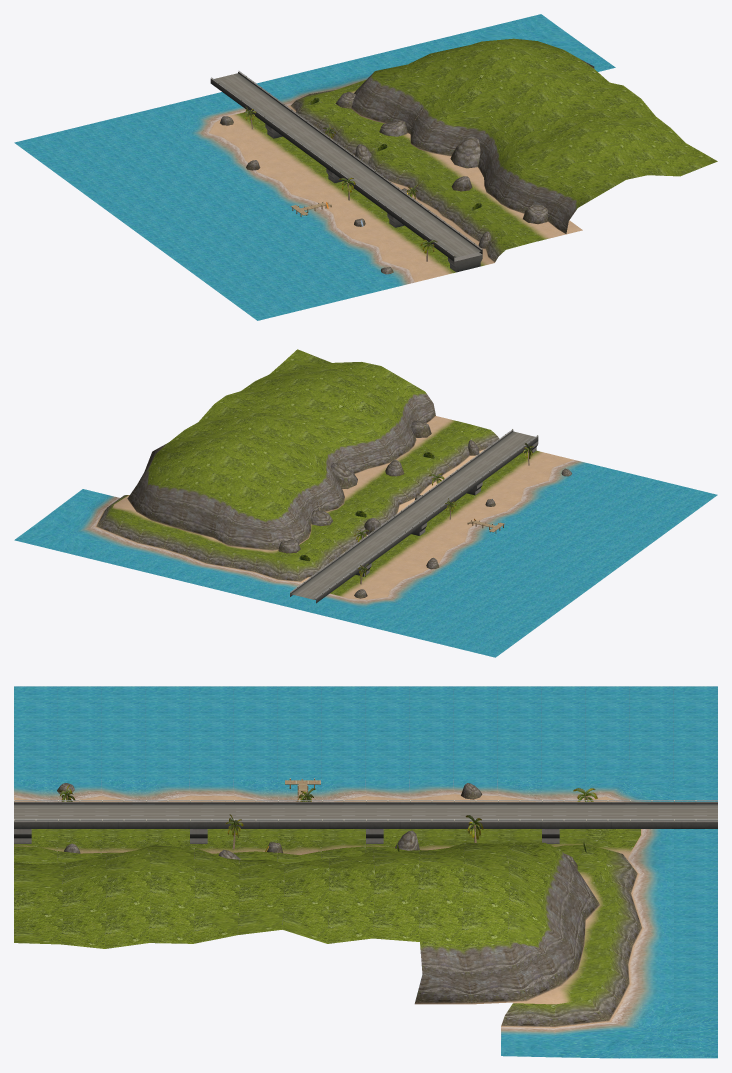
Rendered from Track012_Low.FBX.
The picture shows the model from 3 angles, top to bottom: view 1: azimuth 30°, elevation 25°; view 2: azimuth 150°, elevation 25°; view 3: azimuth 270°, elevation 25°; orthographic projection. The views are drawn at different scales.
Visible parts, largest first — view 1: Ground, Rock (×2), Road (×2); view 2: Ground, Rock, Road (×2); view 3: Ground, Rock, Road (×2).
Boxes of the visible parts, x1,y1,x2,y2 form: Ground: (14,14,615,320); Rock (×2): (351,38,717,233); Road (×2): (210,71,482,261); Ground: (14,416,717,657); Rock: (127,349,435,550); Road (×2): (290,429,538,603); Ground: (14,686,717,1058); Rock: (14,842,599,1004); Road (×2): (14,800,717,828).
Bounding box in the file's own units: 7877 × 1067 × 6300.
